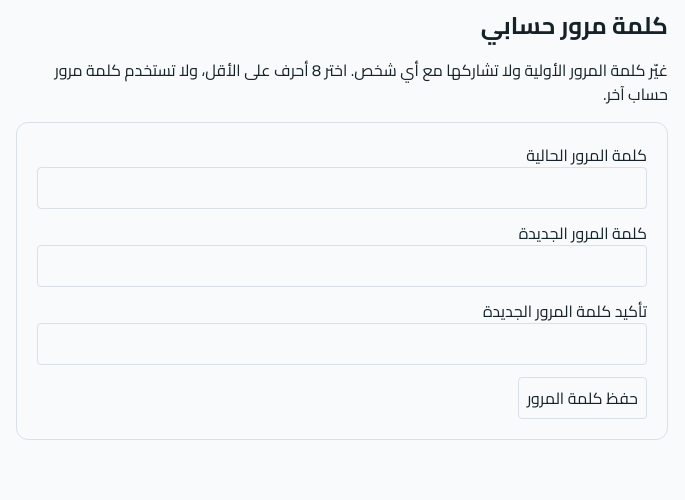
does not submit a password confirmation mismatch
This screenshot has width=685, height=500.
Type "test-old-only" into the password field labelled "كلمة المرور الحالية" at (342, 188), box [37,167,647,209]
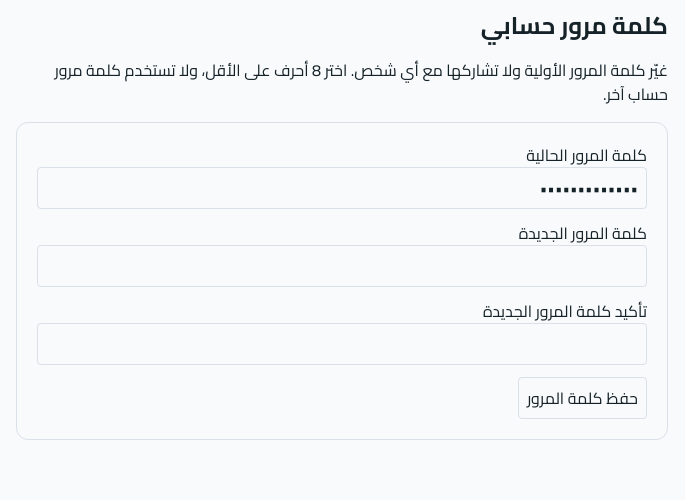
Type "test-new-only" into the password field labelled "كلمة المرور الجديدة" at (342, 266), box [37,245,647,287]
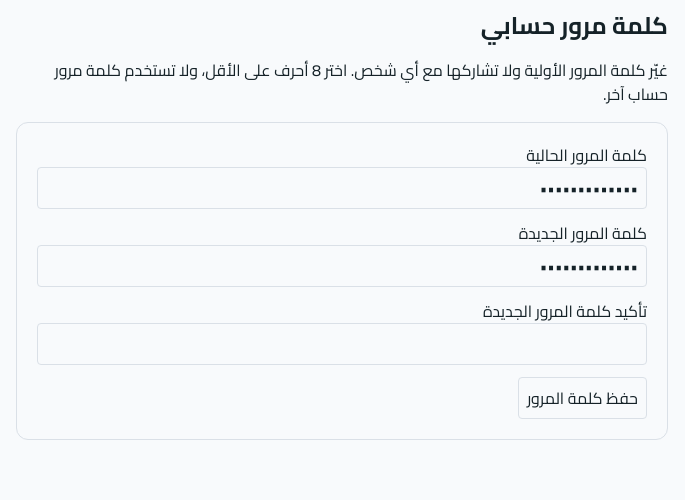
Type "test-different" into the password field labelled "تأكيد كلمة المرور الجديدة" at (342, 344), box [37,323,647,365]
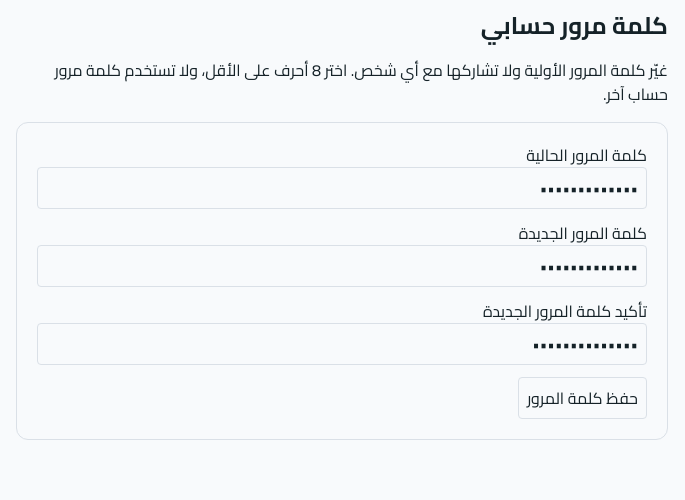
Submit the form named "حفظ كلمة المرور"
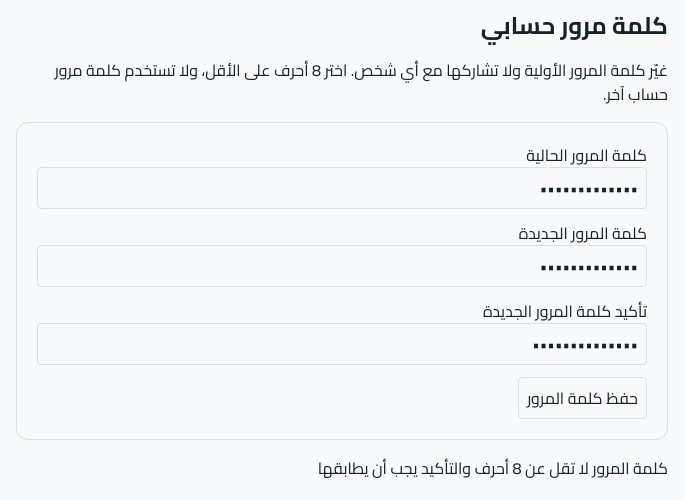
Expected: the message shows "التأكيد يجب أن يطابقها", [318,453,668,483]
